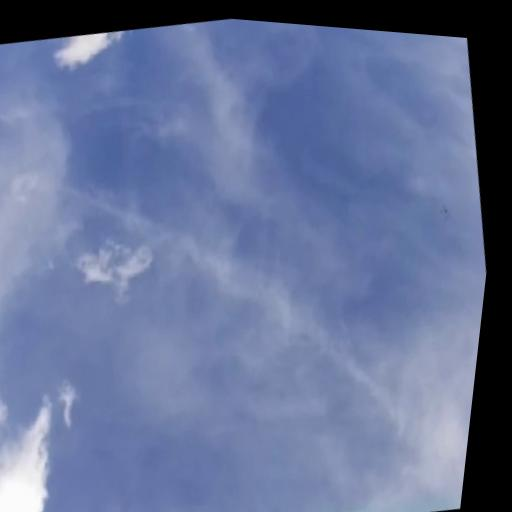drones: (433, 199, 457, 228)
